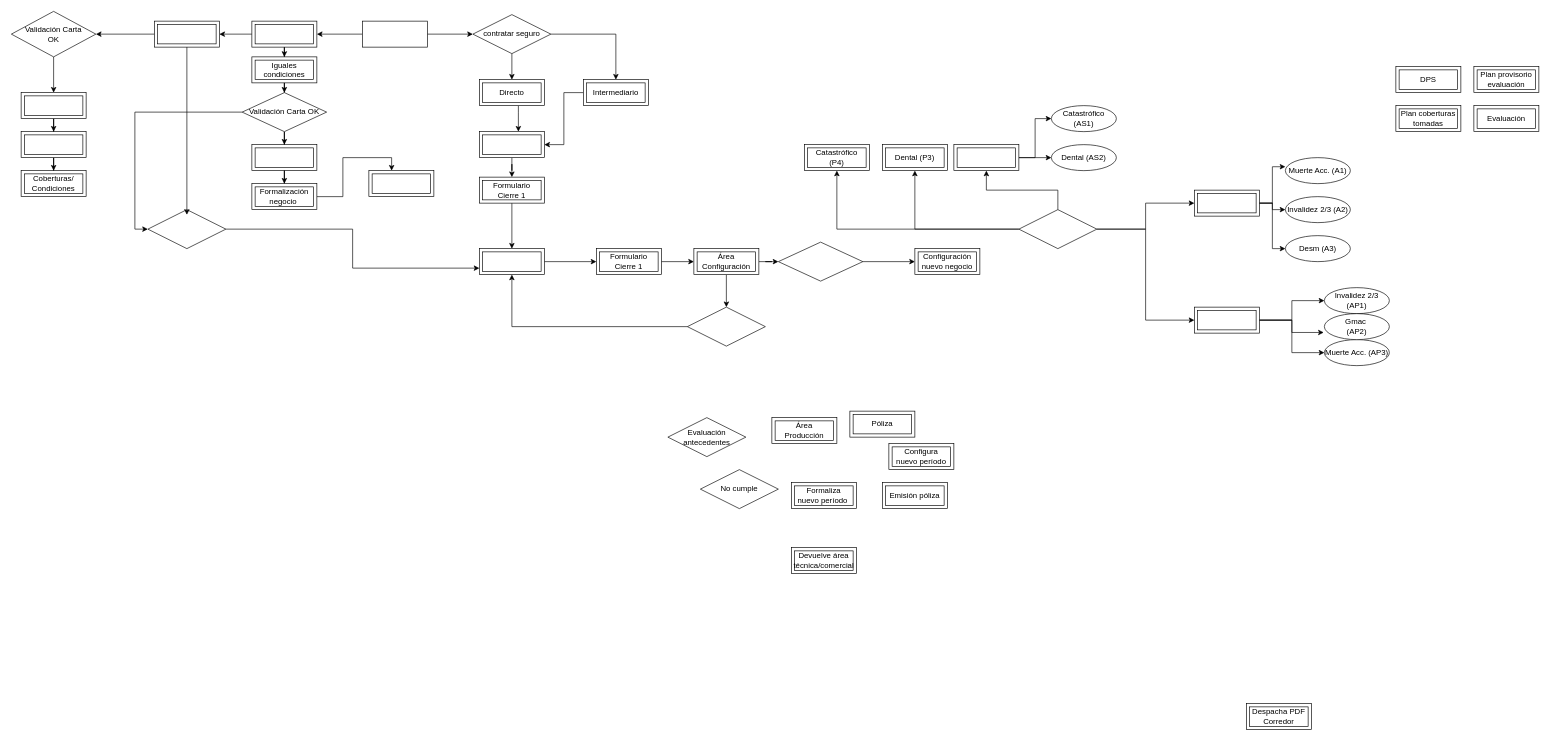
The diagram is 1550 pixels wide and 741 high, and some of its shapes have lost their labels. The centre of each missing label's shape, as x and y in pixels:
"ACC P3 Personales" belongs at point 1226,319.
"Cliente" belongs at point 394,33.
"Con Ajustes" belongs at point 186,33.
"Configuración nuevo período" belongs at point 284,157.
"Contrata" belongs at point 1057,229.
"Planes de Beneficios" belongs at point 53,144.
"Producción-Comercial-Técnico-" belongs at point 401,183.
"Renovación" belongs at point 284,33.
"Salud (P2)" belongs at point 986,157.
"Tarifas" belongs at point 53,105.
"Val.Cierre No esta OK" belongs at point 726,326.
"Validación cierre OK" belongs at point 820,261.
"Validación no esta OK" belongs at point 186,229.
"Vida (P1)" belongs at point 1226,202.
"Área Comercial" belongs at point 511,144.
"Área técnica" belongs at point 511,261.
